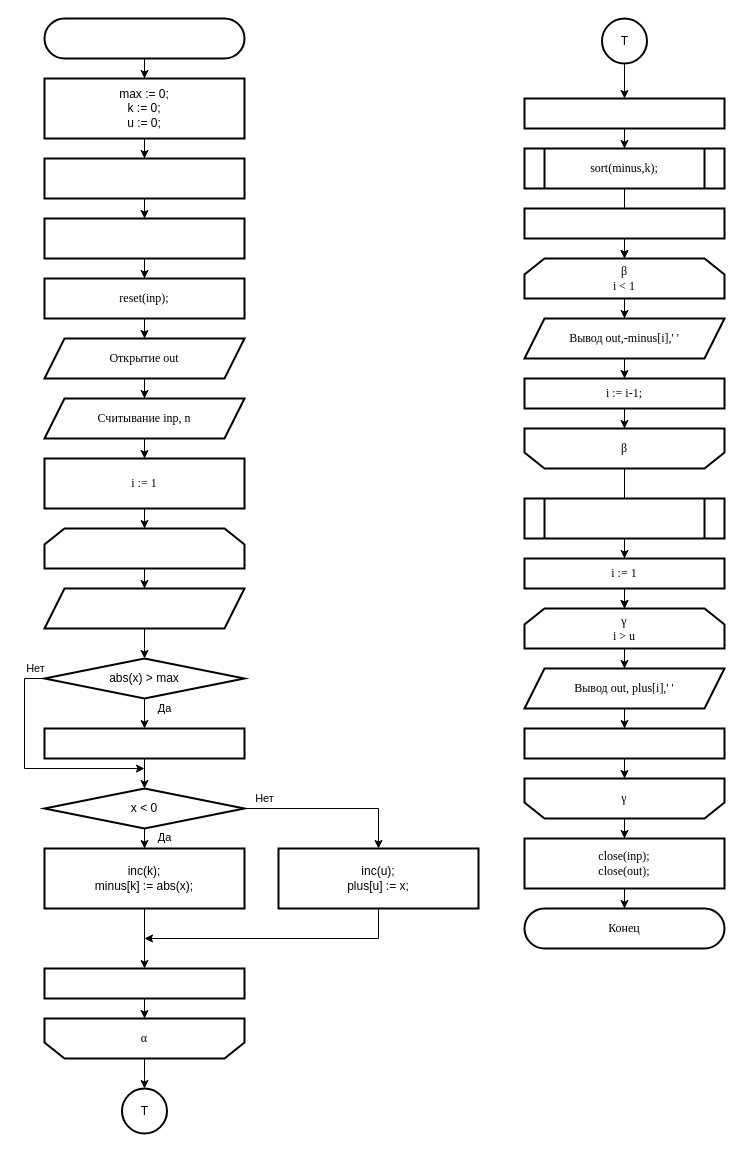
The diagram is 743 pixels wide and 1151 high, and some of its shapes have lost their labels. The shapes that lost their labels are listed below. From the top down, each one's centre as x and y in pixels, then its label:
the point at 144,38: Начало
the point at 624,113: max := max * 10;
the point at 144,178: assign(inp, 'input.txt');
the point at 144,238: assign(out, 'output.txt');
the point at 624,223: i := k
the point at 624,518: sort(plus, u);
the point at 144,548: α i > n-1
the point at 144,608: Считывание inp, x
the point at 144,743: max := x;
the point at 624,743: i := i +1;
the point at 144,983: i := i+1;
